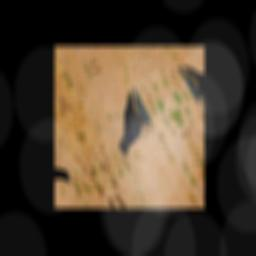Crow: (97, 89, 162, 158)
